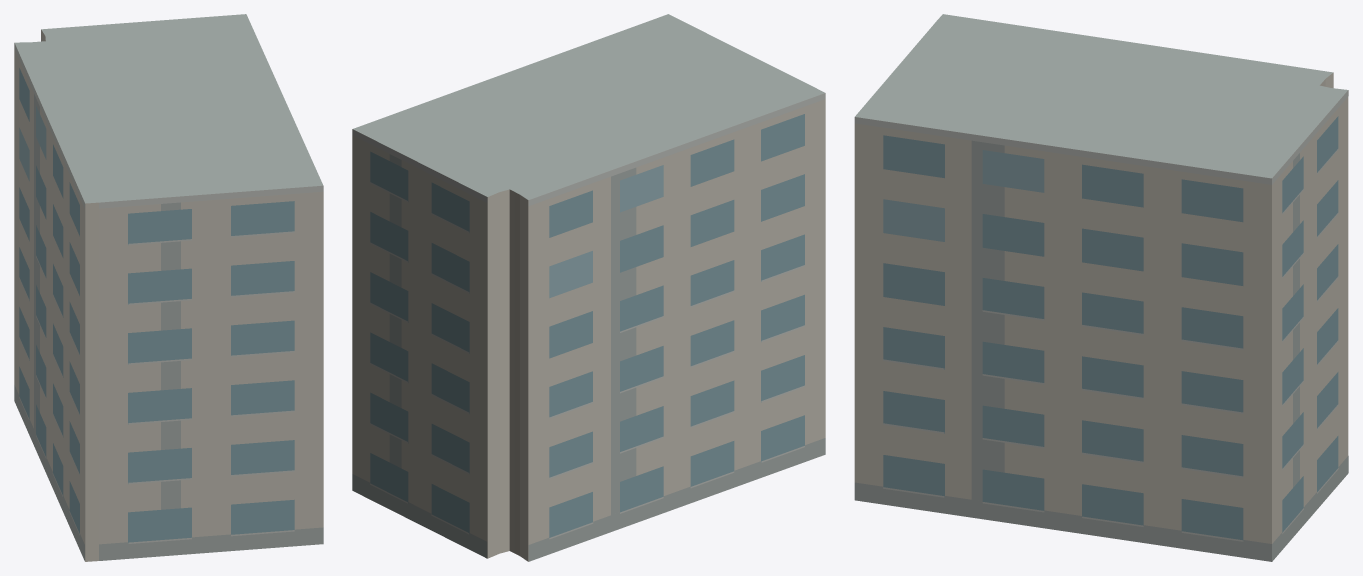
The model's file is survey-upis-32891789.glb.
3 renders of one model, left to right at view 1: azimuth 30°, elevation 25°; view 2: azimuth 150°, elevation 25°; view 3: azimuth 270°, elevation 25°, orthographic. The views are drawn at different scales.
Visible parts, largest first — view 1: survey-upis-32891789.tmp; view 2: survey-upis-32891789.tmp; view 3: survey-upis-32891789.tmp.
Part boxes in pixels (x1=…): survey-upis-32891789.tmp: x1=14, y1=14, x2=323, y2=561; survey-upis-32891789.tmp: x1=352, y1=14, x2=825, y2=561; survey-upis-32891789.tmp: x1=854, y1=14, x2=1348, y2=561.
Bounding box in the file's own units: 13.26 × 14.4 × 16.82.
